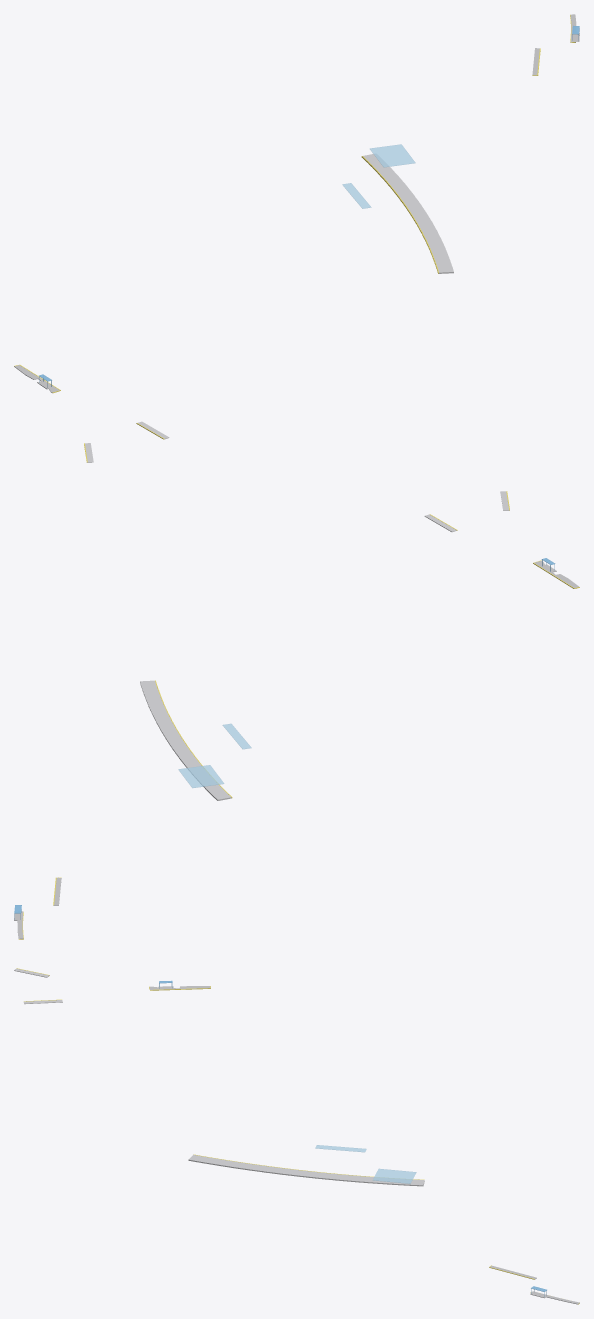
The model's file is 8507091-liebefeld.glb.
The picture shows the model from 3 angles, top to bottom: view 1: azimuth 30°, elevation 25°; view 2: azimuth 210°, elevation 25°; view 3: azimuth 270°, elevation 25°; orthographic projection. The views are drawn at different scales.
Visible parts, largest first — view 1: platform_body@0, roof@0, platform_surface@0; view 2: platform_body@0, roof@0, platform_surface@0; view 3: platform_body@0, roof@0, platform_surface@0, boarding_edge@0.
Part boxes in pixels (x1,y1,x2,y2): platform_body@0: (85, 154, 453, 462); roof@0: (342, 144, 415, 208); platform_surface@0: (14, 14, 579, 392); platform_body@0: (140, 491, 509, 800); roof@0: (178, 723, 251, 788); platform_surface@0: (14, 560, 578, 938); platform_body@0: (14, 968, 424, 1186); roof@0: (315, 1145, 416, 1183); platform_surface@0: (149, 986, 579, 1304); boarding_edge@0: (16, 968, 579, 1304).
Size of the model in its own units: 369 by 5.05 by 263.
